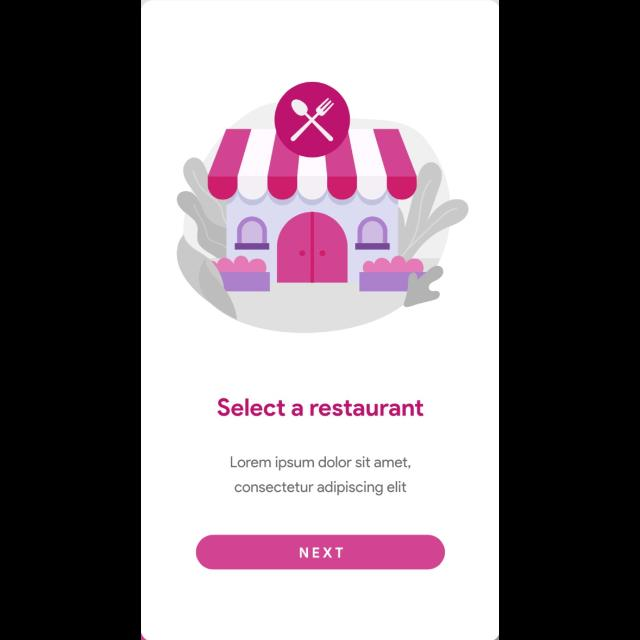image: (178, 82, 470, 334)
text: (231, 456, 411, 496), (213, 395, 425, 419)
textbutton: (196, 534, 446, 570)
